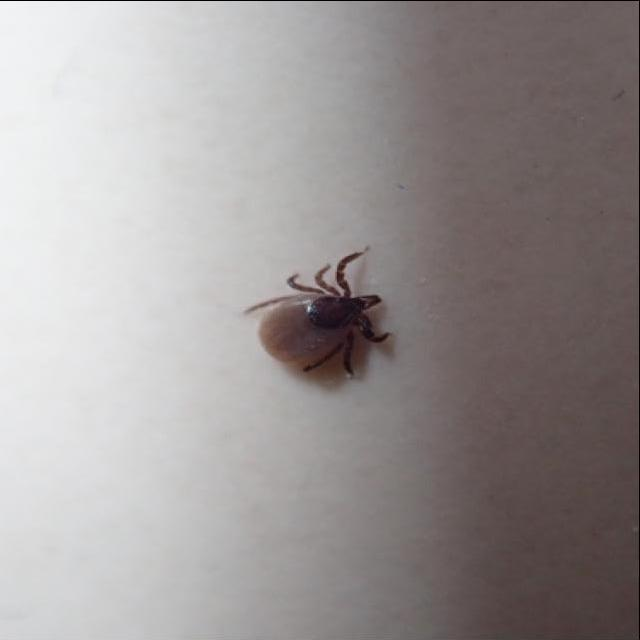Ixodes Ricinus-F-Fed: (244, 247, 391, 374)
